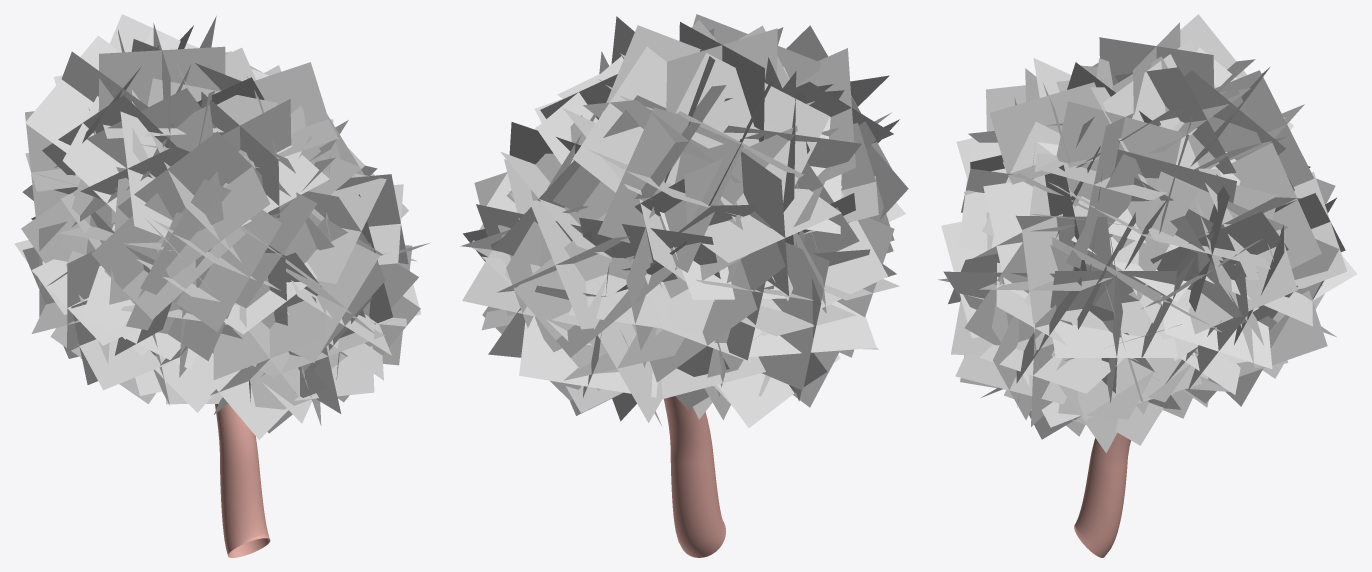
The model's file is Arbre1.fbx.
The picture shows the model from 3 angles, left to right: view 1: azimuth 30°, elevation 25°; view 2: azimuth 150°, elevation 25°; view 3: azimuth 270°, elevation 25°; orthographic projection. The views are drawn at different scales.
Visible parts, largest first — view 1: Icosphere, NurbsPath; view 2: Icosphere, NurbsPath; view 3: Icosphere, NurbsPath.
Boxes of the visible parts, <box> form: Icosphere: <box>14,14,430,439</box>; NurbsPath: <box>215,404,270,557</box>; Icosphere: <box>460,14,908,427</box>; NurbsPath: <box>663,396,725,557</box>; Icosphere: <box>938,14,1356,453</box>; NurbsPath: <box>1074,432,1130,557</box>.
Size of the model in its own units: 1249 by 1753 by 1350.
